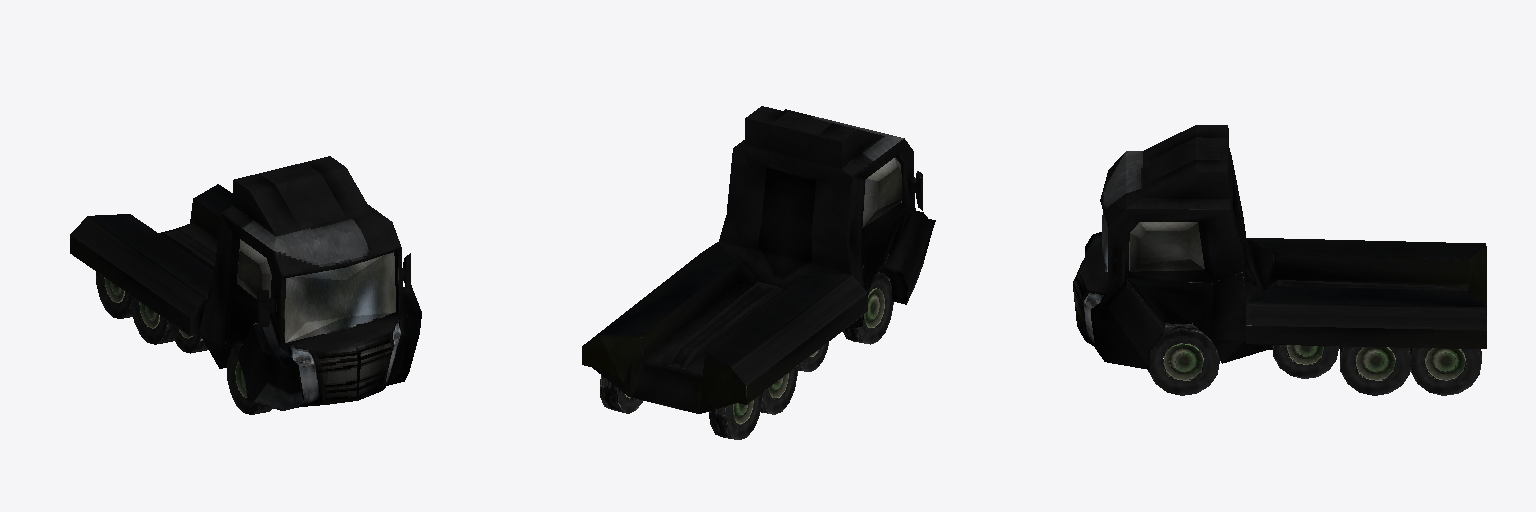
3 views of the same model, side by side, from view 1: azimuth 30°, elevation 25°; view 2: azimuth 150°, elevation 25°; view 3: azimuth 270°, elevation 25° (orthographic).
Parts seen in each view (by area): view 1: truck.001_Plane.000; view 2: truck.001_Plane.000; view 3: truck.001_Plane.000.
Boxes of the visible parts, <box> form: truck.001_Plane.000: <box>70,156,421,414</box>; truck.001_Plane.000: <box>582,106,935,439</box>; truck.001_Plane.000: <box>1073,125,1486,395</box>.
Size of the model in its own units: 4.46 by 5.52 by 9.64.
Materials: 1 (1 with a texture image).